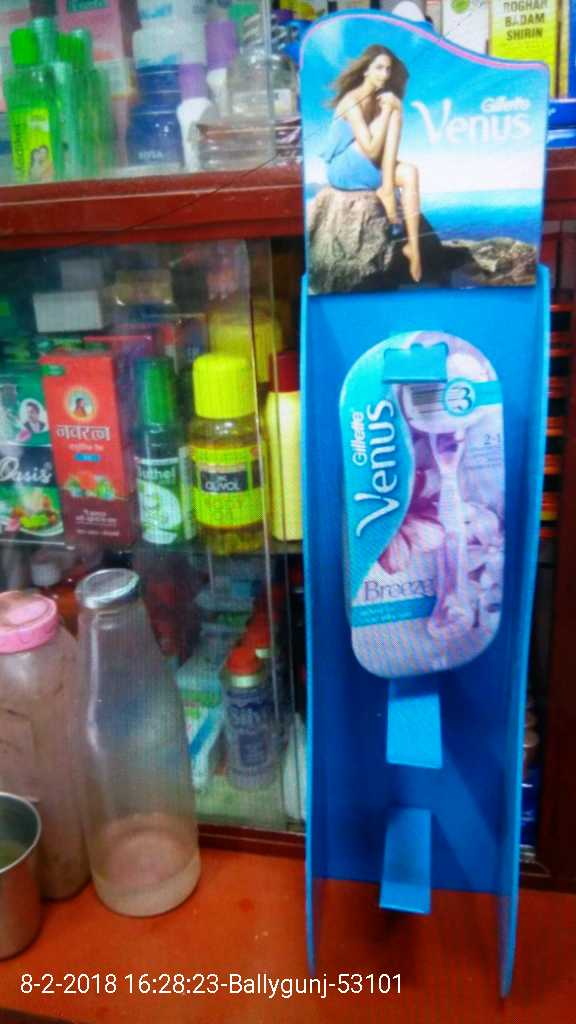venus: (320, 321, 510, 692)
